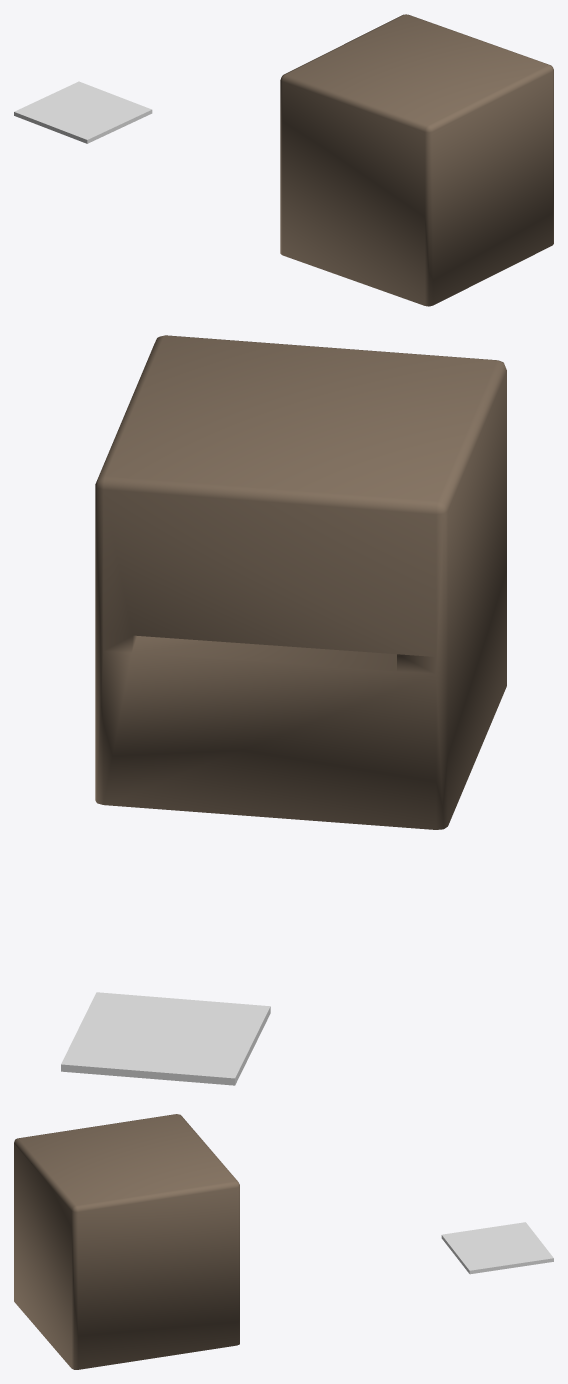
File: Printer.glb
3 views of the same model, one above another, from view 1: azimuth 30°, elevation 25°; view 2: azimuth 150°, elevation 25°; view 3: azimuth 270°, elevation 25° (orthographic). The views are drawn at different scales.
Parts seen in each view (by area): view 1: Printer, Polaroid; view 2: Printer, Polaroid; view 3: Printer, Polaroid.
Part boxes in pixels (x1=…): Printer: x1=280, y1=14, x2=553, y2=306; Polaroid: x1=14, y1=81, x2=152, y2=143; Printer: x1=95, y1=335, x2=506, y2=829; Polaroid: x1=61, y1=992, x2=270, y2=1085; Printer: x1=14, y1=1114, x2=239, y2=1369; Polaroid: x1=441, y1=1222, x2=553, y2=1274.
Bounding box in the file's own units: 0.4486 × 0.2633 × 0.7938.
